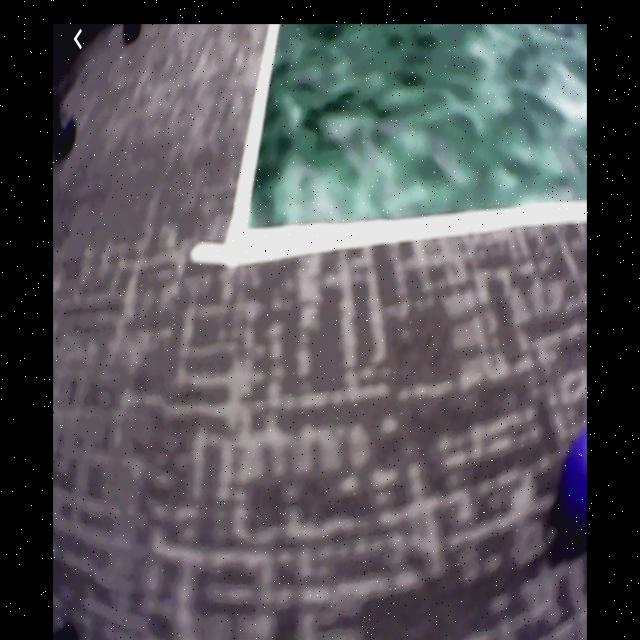ball: (560, 431, 585, 544)
